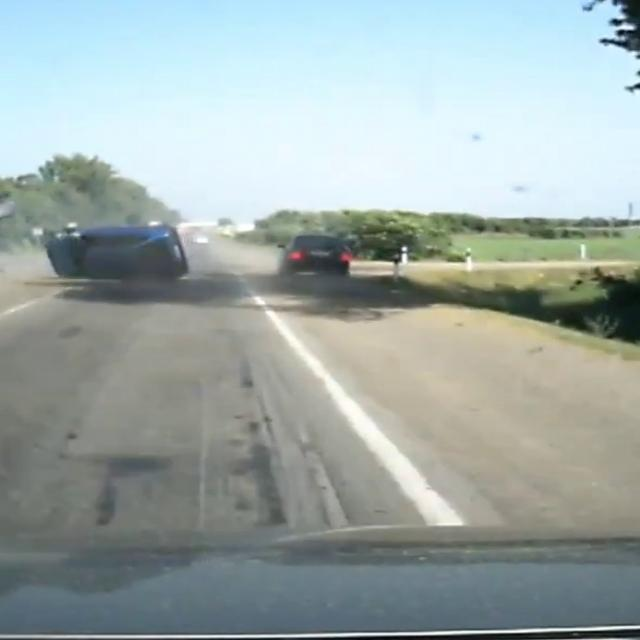accident: (24, 198, 217, 296)
